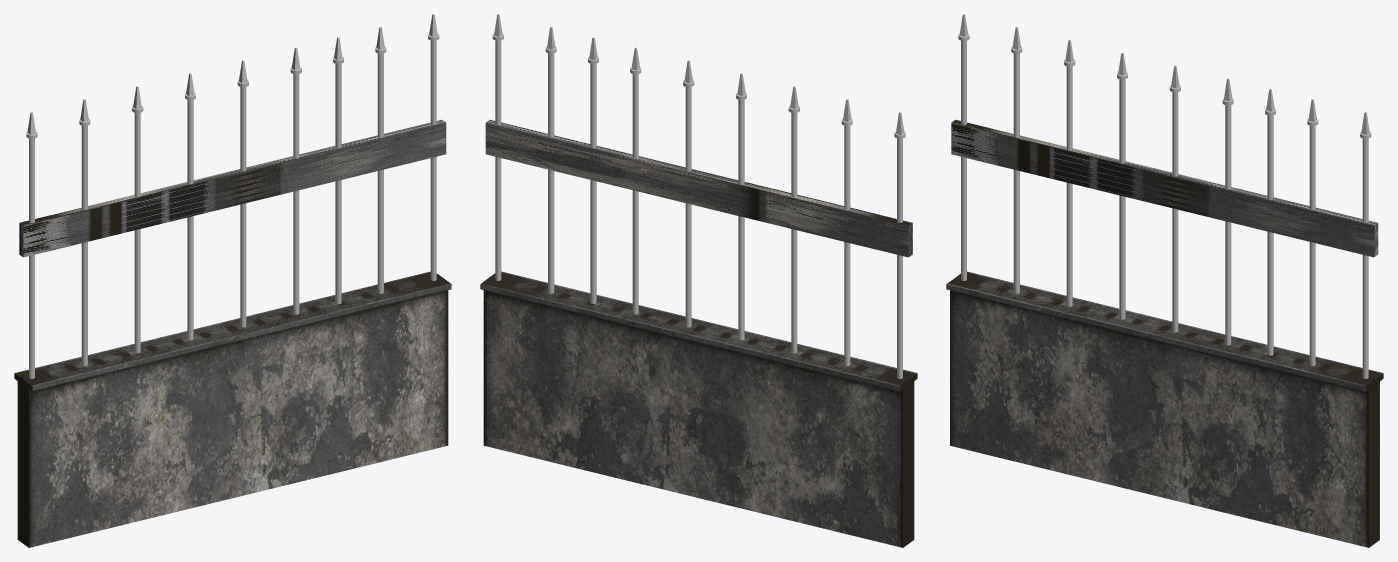
The model's file is Fence2.obj.
3 views of the same model, side by side, from view 1: azimuth 30°, elevation 25°; view 2: azimuth 150°, elevation 25°; view 3: azimuth 330°, elevation 25° (orthographic).
Parts seen in each view (by area): view 1: 01_2, Cube, Cylinder.012, Cylinder.015, Cylinder.008, Cylinder.009, Cylinder.017, Cylinder.021, Cylinder.006, Cylinder.004, Cylinder.002; view 2: 01_2, Cube, Cylinder.008, Cylinder.009, Cylinder.012, Cylinder.015, Cylinder.021, Cylinder.017, Cylinder.006, Cylinder.004, Cylinder.002; view 3: 01_2, Cube, Cylinder.004, Cylinder.008, Cylinder.009, Cylinder.017, Cylinder.006, Cylinder.012, Cylinder.015, Cylinder.021, Cylinder.002.
Boxes of the visible parts, left/top/right/bottom form: 01_2: left=14, top=271, right=451, bottom=547; Cube: left=19, top=119, right=446, bottom=257; Cylinder.012: left=293, top=74, right=299, bottom=314; Cylinder.015: left=377, top=53, right=383, bottom=293; Cylinder.008: left=187, top=100, right=193, bottom=340; Cylinder.009: left=240, top=87, right=246, bottom=327; Cylinder.017: left=335, top=63, right=341, bottom=304; Cylinder.021: left=430, top=40, right=436, bottom=280; Cylinder.006: left=134, top=112, right=140, bottom=353; Cylinder.004: left=81, top=125, right=87, bottom=365; Cylinder.002: left=29, top=138, right=34, bottom=378; 01_2: left=480, top=271, right=917, bottom=547; Cube: left=485, top=119, right=912, bottom=257; Cylinder.008: left=738, top=99, right=744, bottom=340; Cylinder.009: left=685, top=87, right=691, bottom=327; Cylinder.012: left=632, top=74, right=638, bottom=314; Cylinder.015: left=548, top=53, right=554, bottom=293; Cylinder.021: left=495, top=40, right=501, bottom=280; Cylinder.017: left=590, top=63, right=596, bottom=303; Cylinder.006: left=791, top=112, right=797, bottom=353; Cylinder.004: left=844, top=125, right=850, bottom=365; Cylinder.002: left=897, top=138, right=902, bottom=378; 01_2: left=946, top=271, right=1383, bottom=547; Cube: left=951, top=119, right=1378, bottom=257; Cylinder.004: left=1013, top=53, right=1019, bottom=293; Cylinder.008: left=1119, top=79, right=1125, bottom=319; Cylinder.009: left=1172, top=92, right=1178, bottom=332; Cylinder.017: left=1267, top=115, right=1273, bottom=355; Cylinder.006: left=1066, top=66, right=1072, bottom=306; Cylinder.012: left=1225, top=105, right=1231, bottom=345; Cylinder.015: left=1309, top=125, right=1315, bottom=365; Cylinder.021: left=1362, top=138, right=1368, bottom=378; Cylinder.002: left=961, top=40, right=966, bottom=280.
Size of the model in its own units: 4 by 3.88 by 0.3.
1 material, 1 textured.
